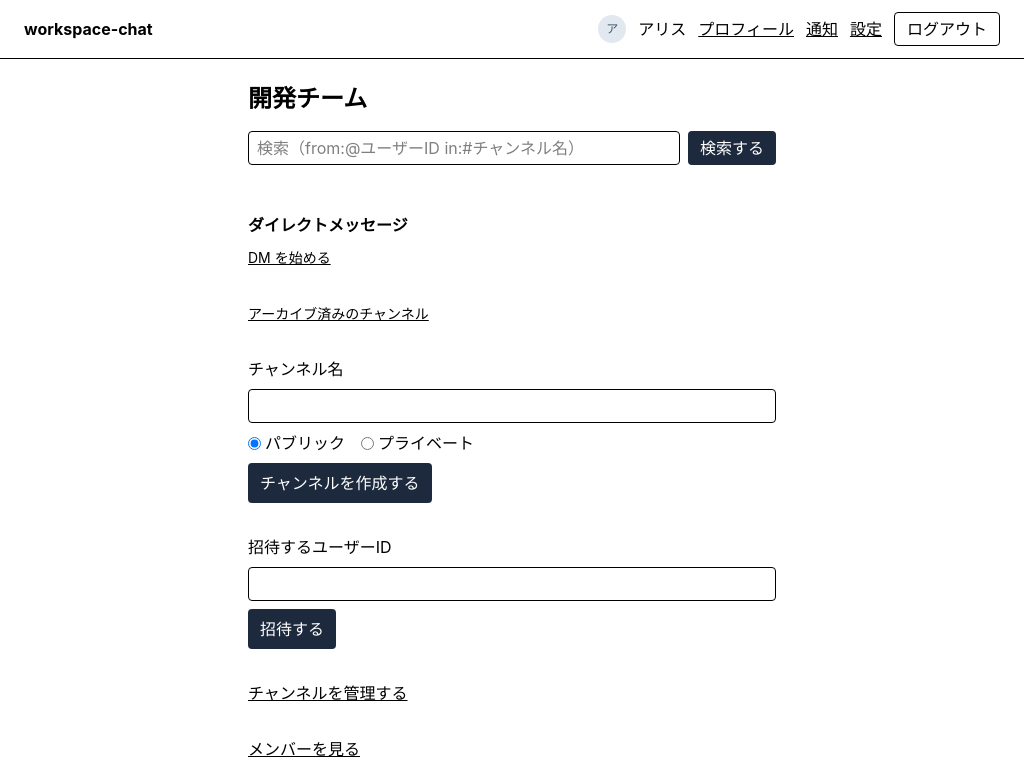
Scenario: ワークスペースへの招待（F-08） › 招待の入力に一部を入れると候補を出し、押すとその人のユーザーID で招待する（#616）
The width and height of the screenshot is (1024, 768).
Expected: the heading "開発チーム" is shown, [248,84,367,113]
Type "tr" into the field labelled "招待するユーザーID" at (512, 584), box [248,567,776,601]
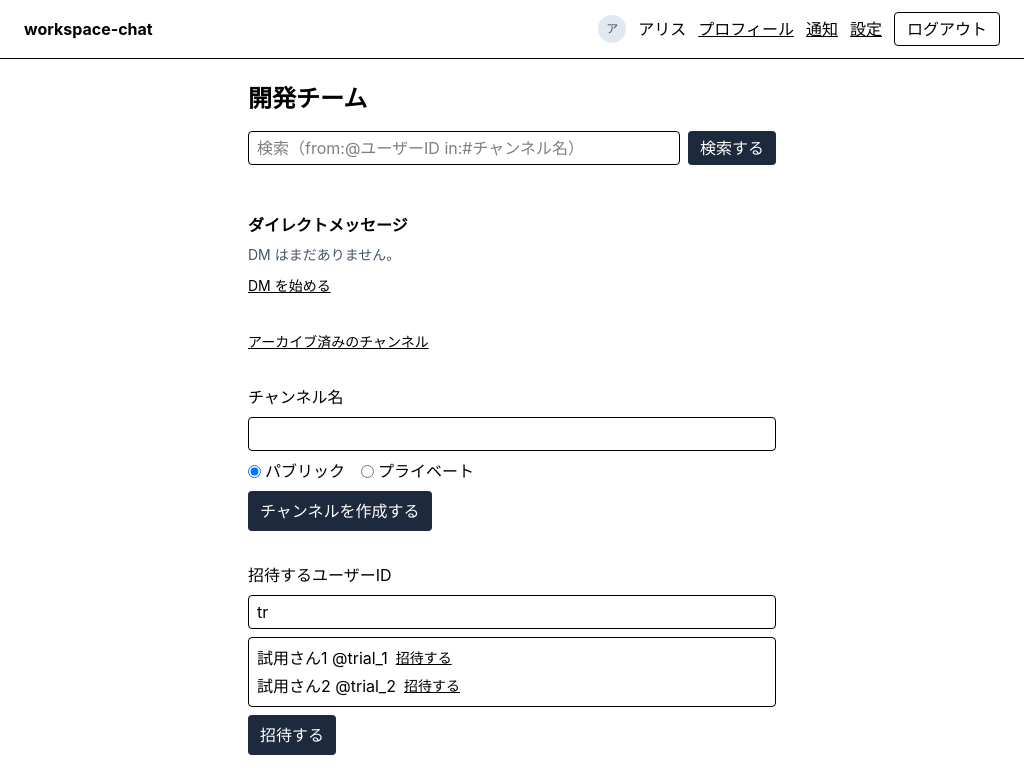
Click the button with aria-label "試用さん2（@trial_2）を招待する" at (432, 686), box [404,676,460,696]
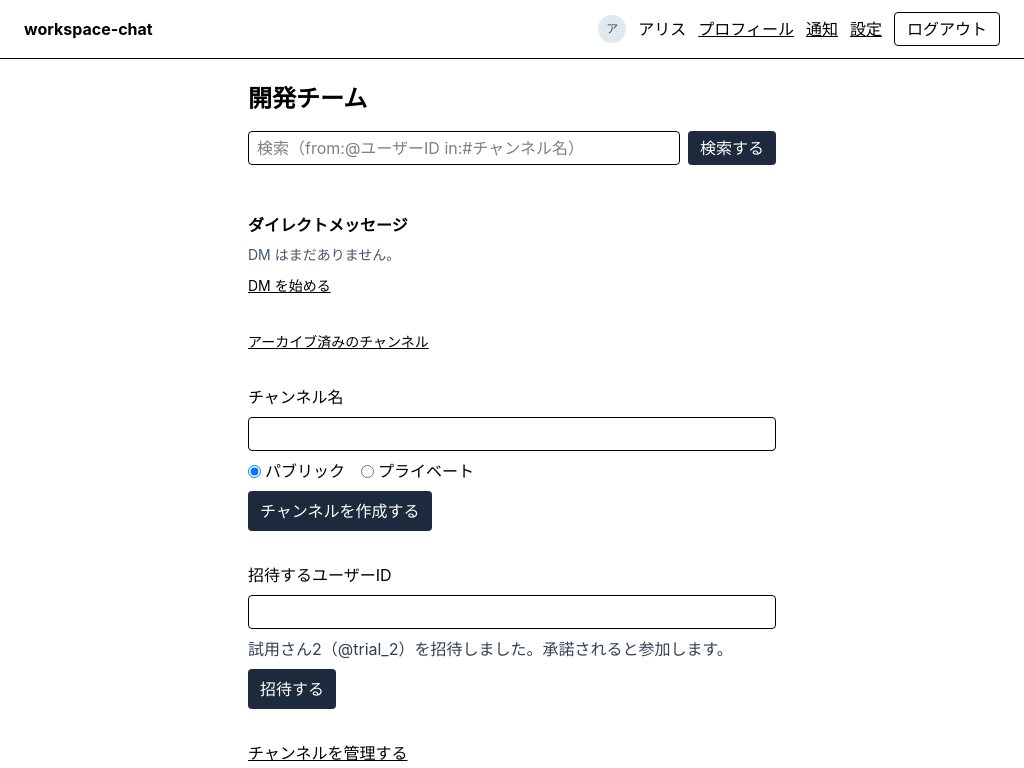
Expected: the message named "招待の結果" shows "試用さん2（@trial_2）を招待しました", [248,639,733,659]
Expected: the list "招待の候補" is gone
